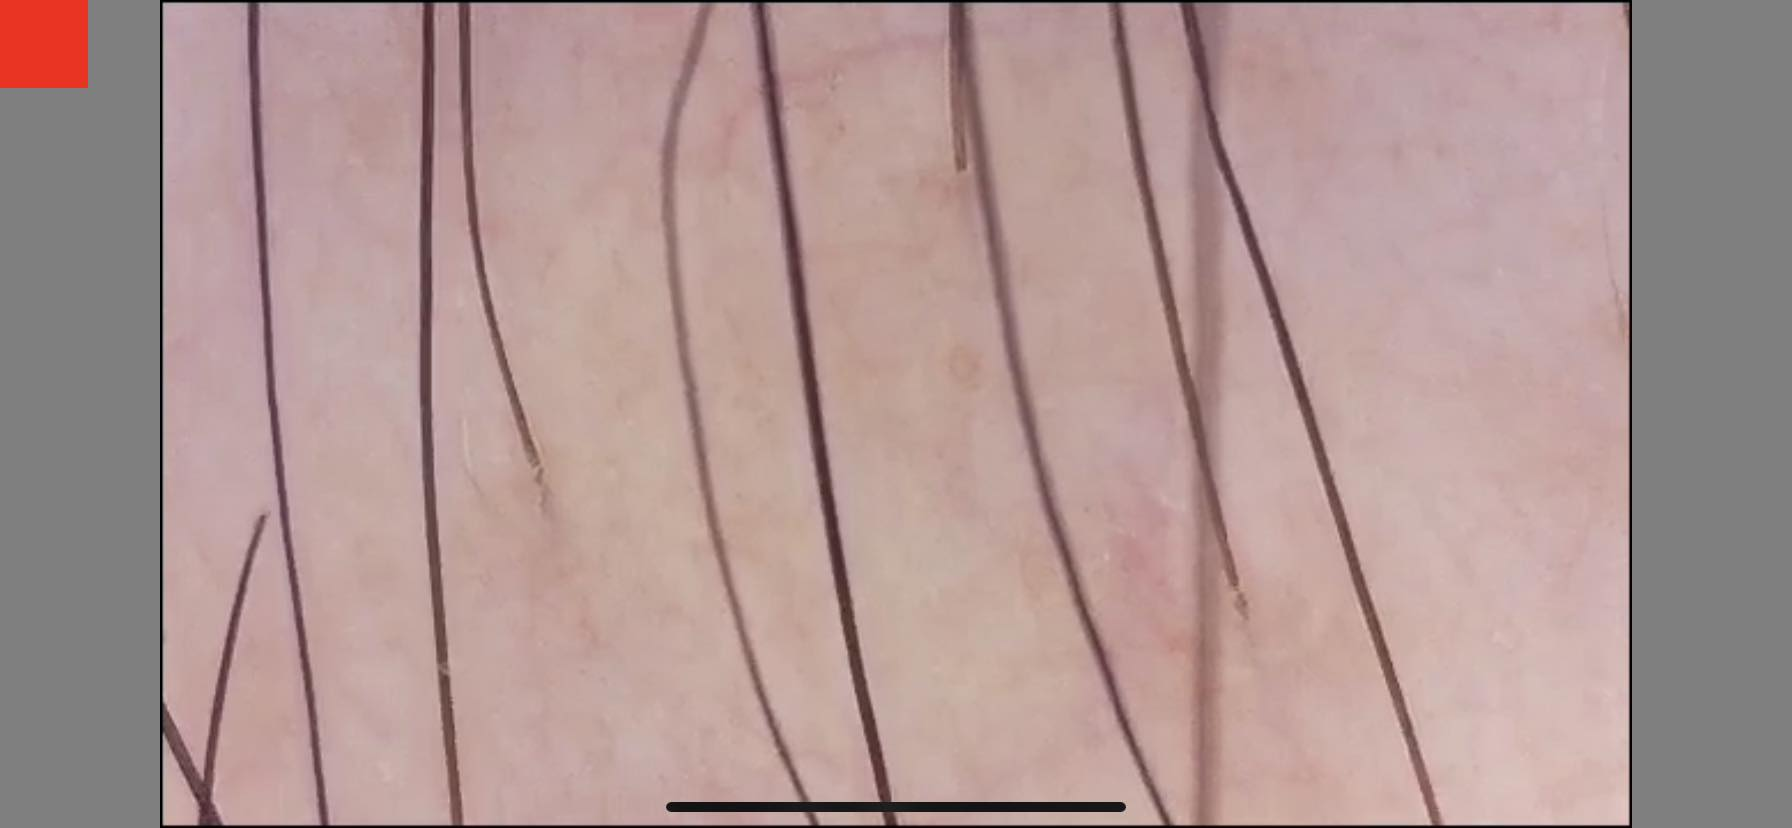TRUE: (1215, 567, 1268, 623), (511, 445, 560, 489), (238, 495, 276, 537), (937, 146, 974, 189)
